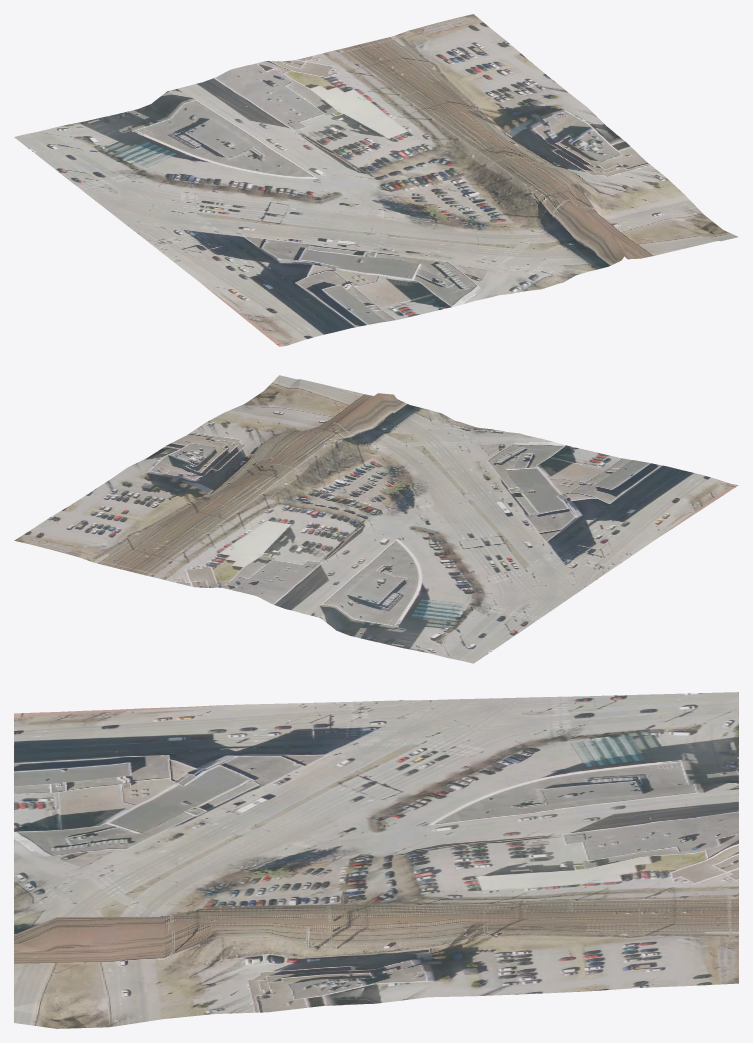
Rendered from CM_Terrain_24487797_6820204.fbx.
3 renders of one model, top to bottom at view 1: azimuth 30°, elevation 25°; view 2: azimuth 150°, elevation 25°; view 3: azimuth 270°, elevation 25°, orthographic. The views are drawn at different scales.
Parts seen in each view (by area): view 1: CM_Terrain_24487797_6820204_LOD0; view 2: CM_Terrain_24487797_6820204_LOD0; view 3: CM_Terrain_24487797_6820204_LOD0.
Boxes of the visible parts, bbox=[...] form: CM_Terrain_24487797_6820204_LOD0: bbox=[14, 14, 738, 346]; CM_Terrain_24487797_6820204_LOD0: bbox=[14, 375, 738, 663]; CM_Terrain_24487797_6820204_LOD0: bbox=[14, 692, 738, 1028].
Size of what is drawn, in the model's own units: 205 by 15.76 by 205.
